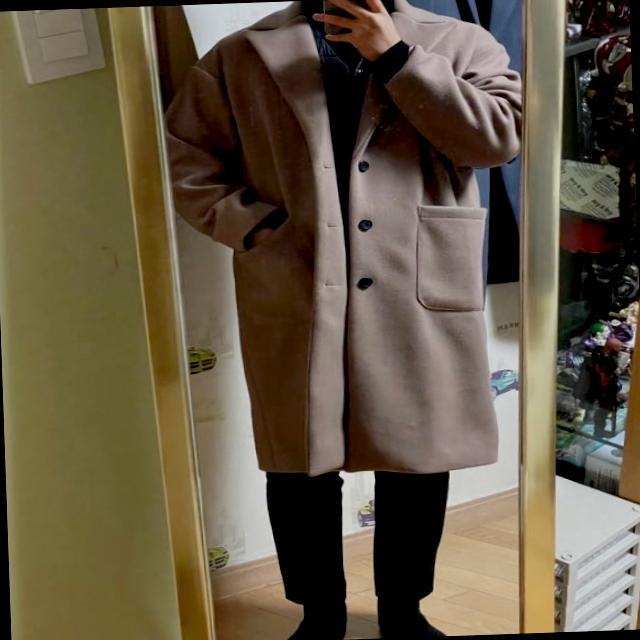coat: (158, 0, 529, 482)
slacks: (264, 463, 454, 611)
